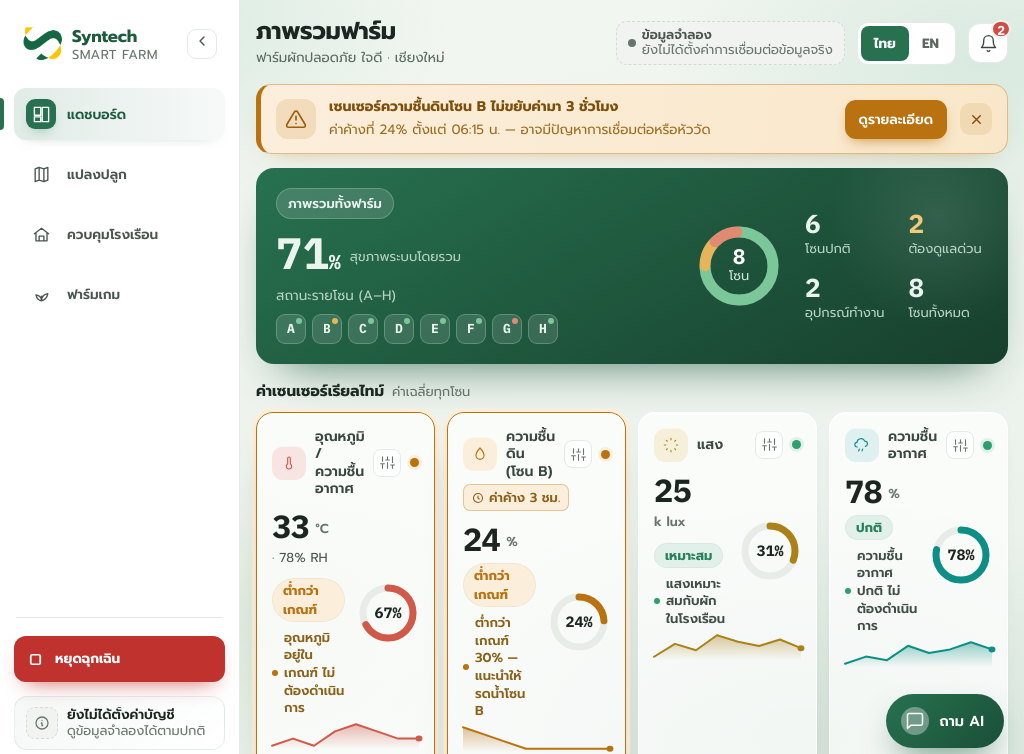
Scenario: DashboardPage › Threshold Modal มี input จริง และค่าที่บันทึกเปลี่ยนสถานะการ์ดจริง
This screenshot has width=1024, height=754.
Check: the text "ต่ำกว่าเกณฑ์" below "ค่าค้าง 3 ชม." is shown, box [474, 566, 510, 604]
Click the button named "ตั้งเกณฑ์แจ้งเตือน — ความชื้นดิน (โซน B)". click: (578, 454)
box: [564, 440, 592, 468]
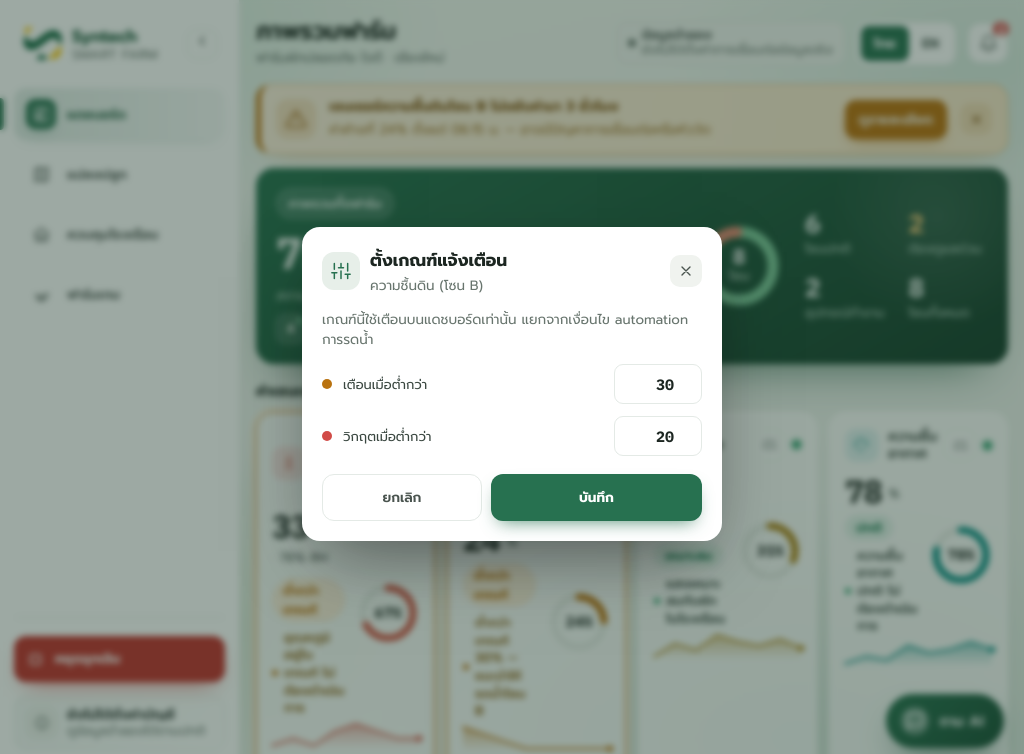
Check: the number field labelled "เตือนเมื่อต่ำกว่า" holds "30"
ลดเกณฑ์เตือนลงต่ำกว่าค่าจริง → การ์ดดินต้องกลับเป็นปกติ
Replace the text in the number field labelled "เตือนเมื่อต่ำกว่า" with "10". click: (658, 384)
box: [614, 364, 702, 404]
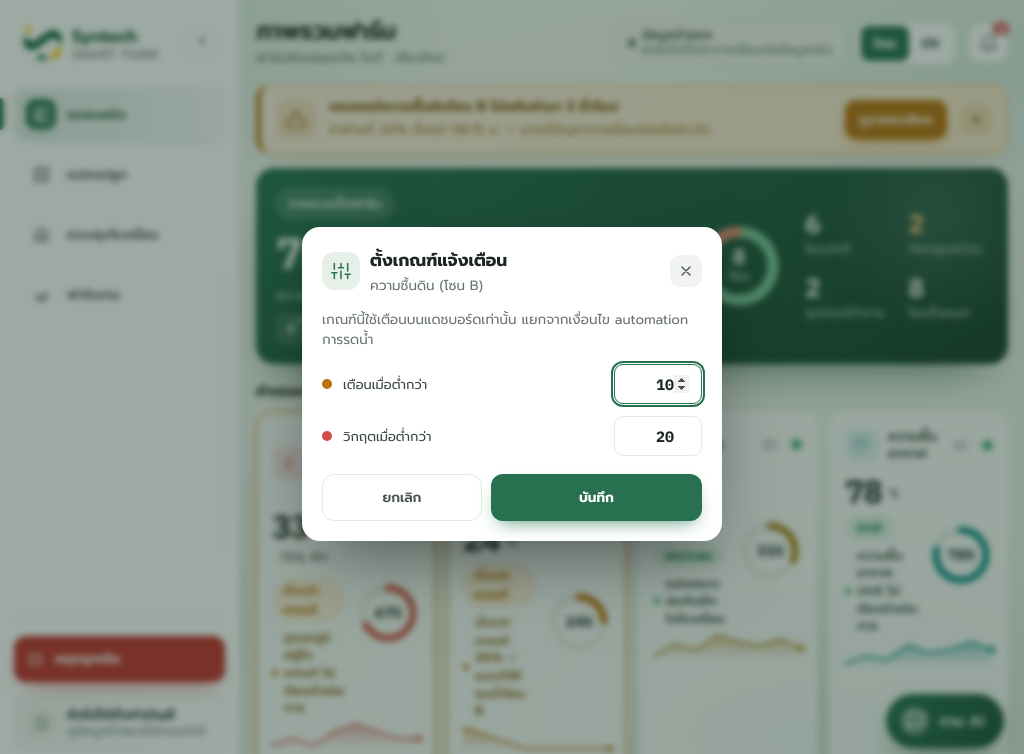
Click the button "บันทึก". click: (596, 498)
box: [491, 474, 702, 521]
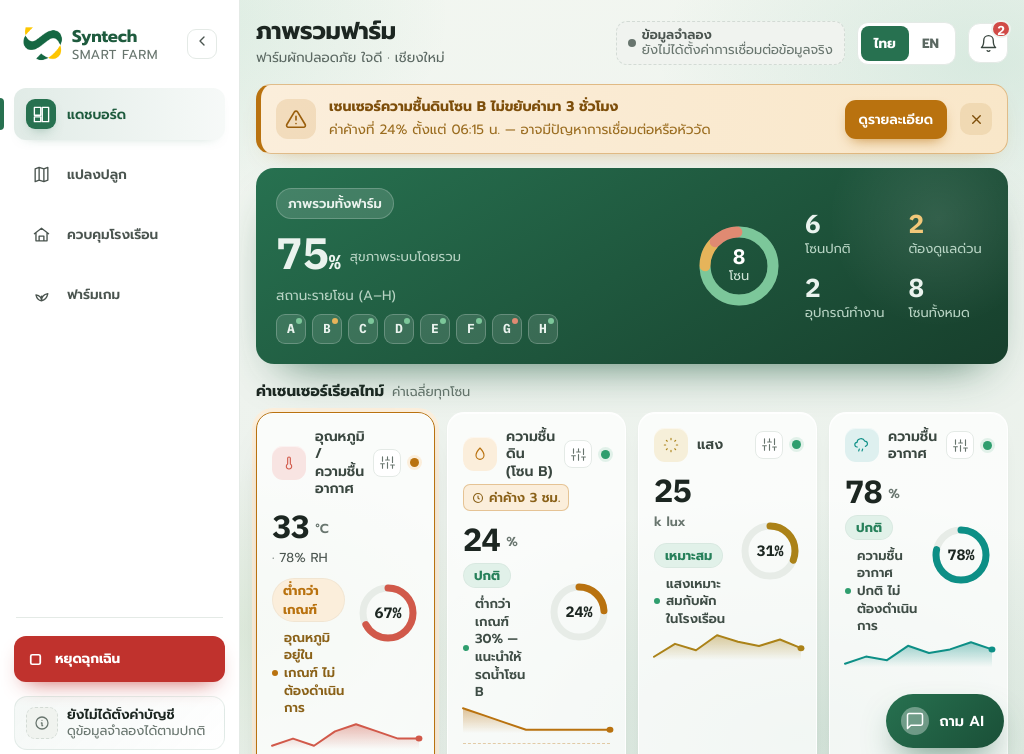
Check: the heading "ตั้งเกณฑ์แจ้งเตือน" is gone
